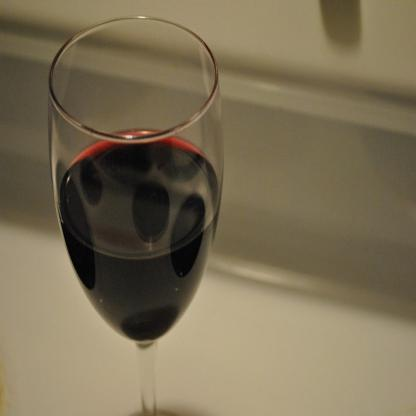drinking: (48, 17, 225, 415)
